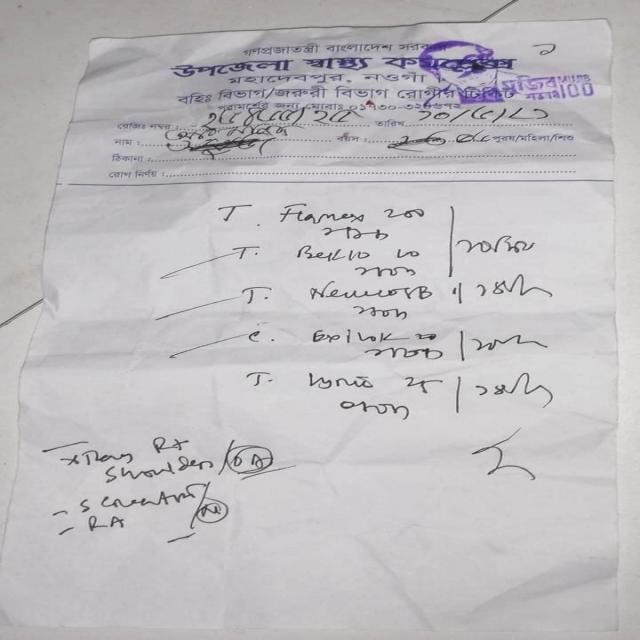Beklo: (285, 242, 379, 263)
Exilok: (302, 325, 402, 346)
Flamex: (272, 200, 380, 227)
Lynes: (300, 370, 380, 395)
Neucos B: (304, 283, 439, 303)
